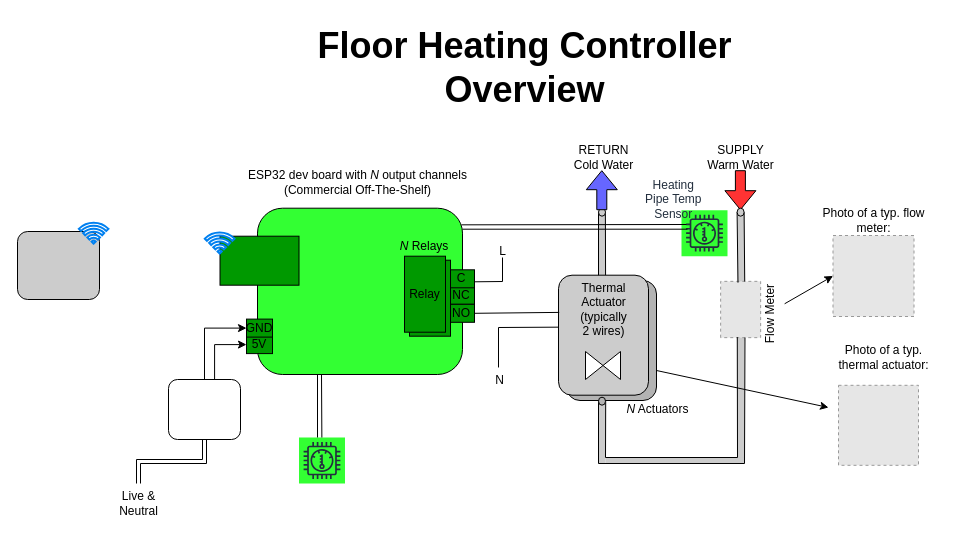
Some shapes in this 956 by 540 pixel diagram are drawn without their labels. Grey dashed boxes stand in for pictures. Here are the shapes that lost their labels. From the top down, the box of each, then its label:
(16, 230, 100, 300): Home Assistant
(219, 235, 299, 285): ESP32-WROOM
(168, 378, 240, 440): 220V to 5V adapter
(298, 436, 345, 484): Local Air Temperature&Humidity Sensor (as backup)
